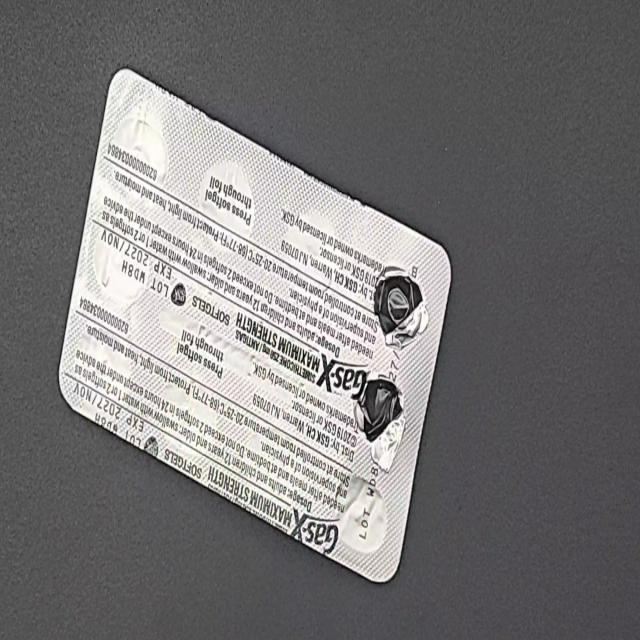defect: (350, 367, 410, 476), (371, 262, 431, 354)
